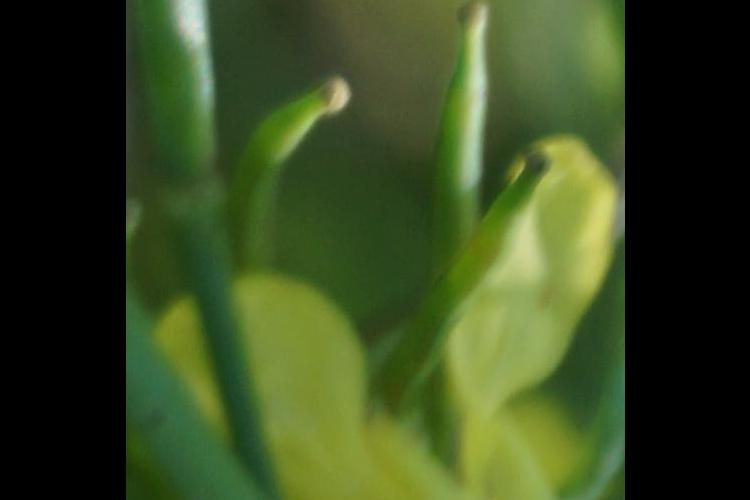pod: (350, 152, 571, 420), (413, 1, 516, 456), (223, 78, 368, 312)
yellow: (162, 283, 541, 500)
